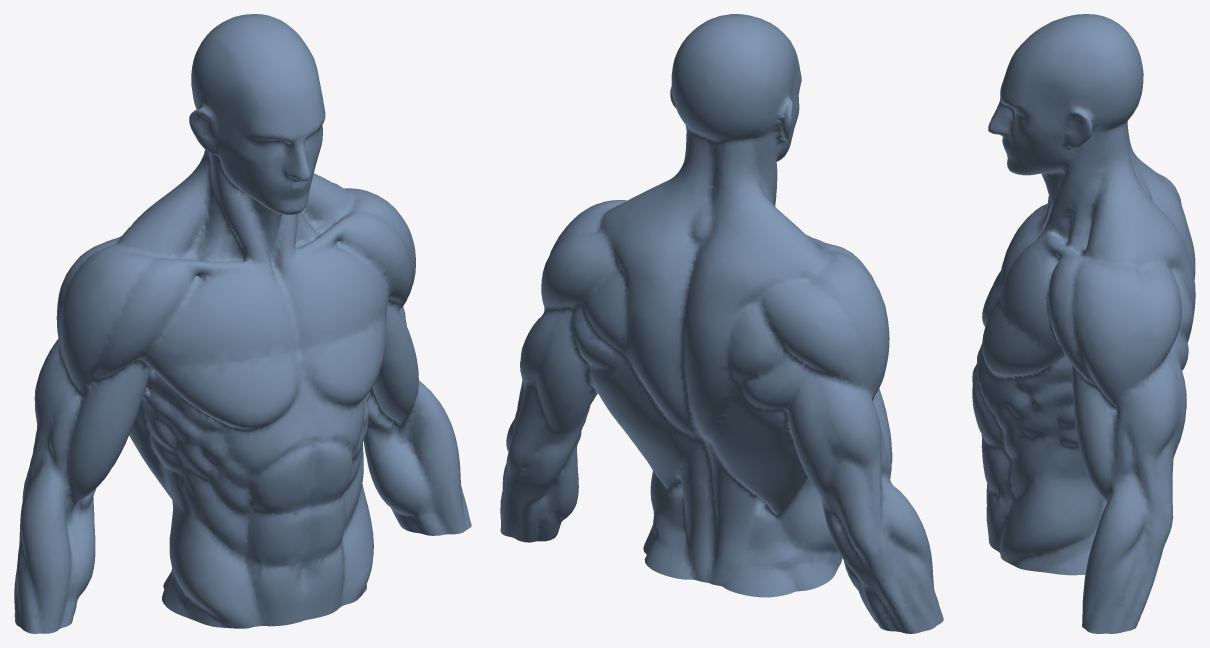
Rendered from pilote-haut-corps.glb.
3 views of the same model, side by side, from view 1: azimuth 30°, elevation 25°; view 2: azimuth 150°, elevation 25°; view 3: azimuth 270°, elevation 25° (orthographic). The views are drawn at different scales.
Parts seen in each view (by area): view 1: M4A.support, M4A.pectoralis.right, M4A.deltoid.right, M4A.pectoralis.left, M4A.biceps.right, M4A.deltoid.left, M4A.biceps.left, M4A.triceps.right; view 2: M4A.support, M4A.deltoid.right, M4A.triceps.right, M4A.deltoid.left, M4A.triceps.left, M4A.biceps.right; view 3: M4A.support, M4A.deltoid.left, M4A.pectoralis.left, M4A.biceps.left, M4A.triceps.left, M4A.pectoralis.right.
Boxes of the visible parts, x1,y1,x2,y2 form: M4A.support: (14,14,471,633); M4A.pectoralis.right: (154,264,297,428); M4A.deltoid.right: (55,226,173,385); M4A.pectoralis.left: (285,250,386,407); M4A.biceps.right: (56,375,132,492); M4A.deltoid.left: (334,183,415,311); M4A.biceps.left: (389,308,418,415); M4A.triceps.right: (32,403,59,465); M4A.support: (500,14,943,633); M4A.deltoid.right: (781,244,889,401); M4A.triceps.right: (806,425,887,525); M4A.deltoid.left: (541,200,626,316); M4A.triceps.left: (515,350,551,445); M4A.biceps.right: (872,389,892,465); M4A.support: (972,14,1195,633); M4A.deltoid.left: (1051,249,1178,400); M4A.pectoralis.left: (982,232,1066,375); M4A.biceps.left: (1073,375,1131,492); M4A.triceps.left: (1125,401,1185,503); M4A.pectoralis.right: (982,204,1046,326).
Bounding box in the file's own units: 0.6873 × 0.8307 × 0.3255.
